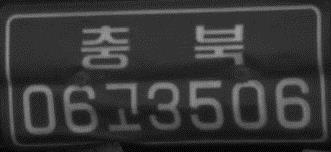0: (228, 75, 268, 132), (20, 83, 58, 135)
3: (145, 78, 185, 132)
5: (186, 77, 226, 132)
6: (273, 74, 311, 133), (61, 81, 99, 136)
고: (102, 80, 142, 133)
충북_D: (79, 19, 247, 73)
